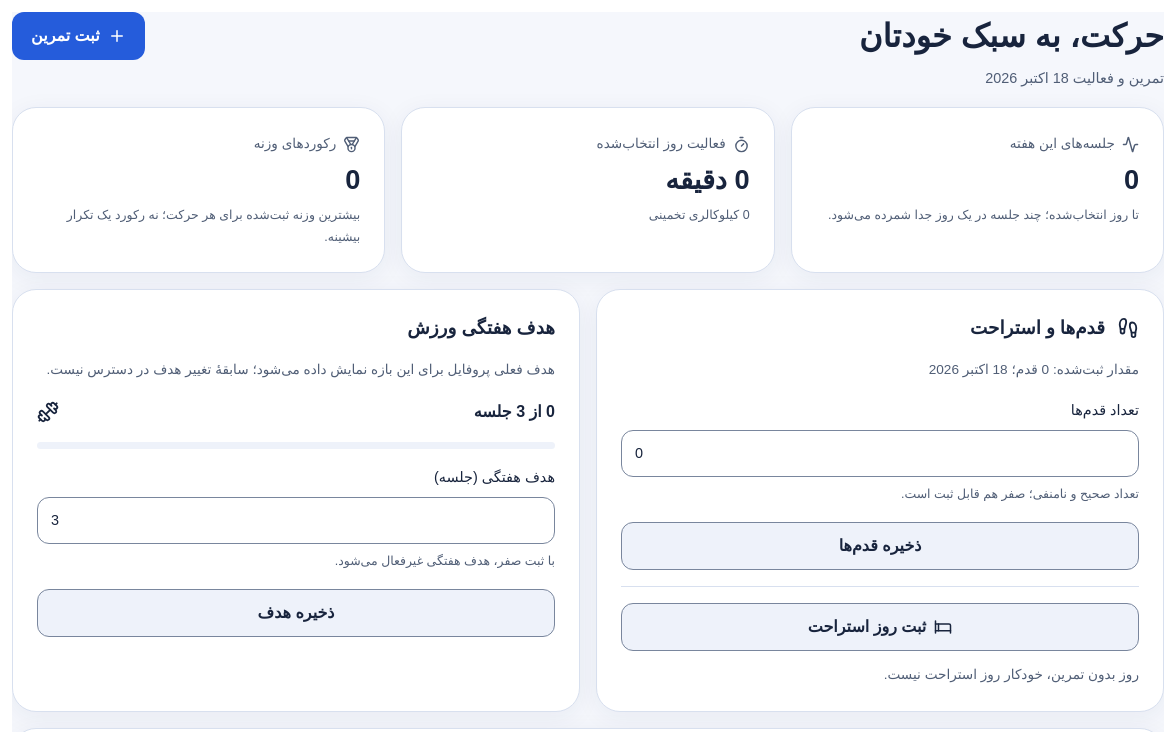
Scenario: steps, explicit rest and global current goal › does not report goal success when the profile disappeared before the write
The image size is (1176, 732).
Replace the text in the number field labelled "هدف هفتگی (جلسه)" with "5" at (296, 521), box [37,497,555,544]
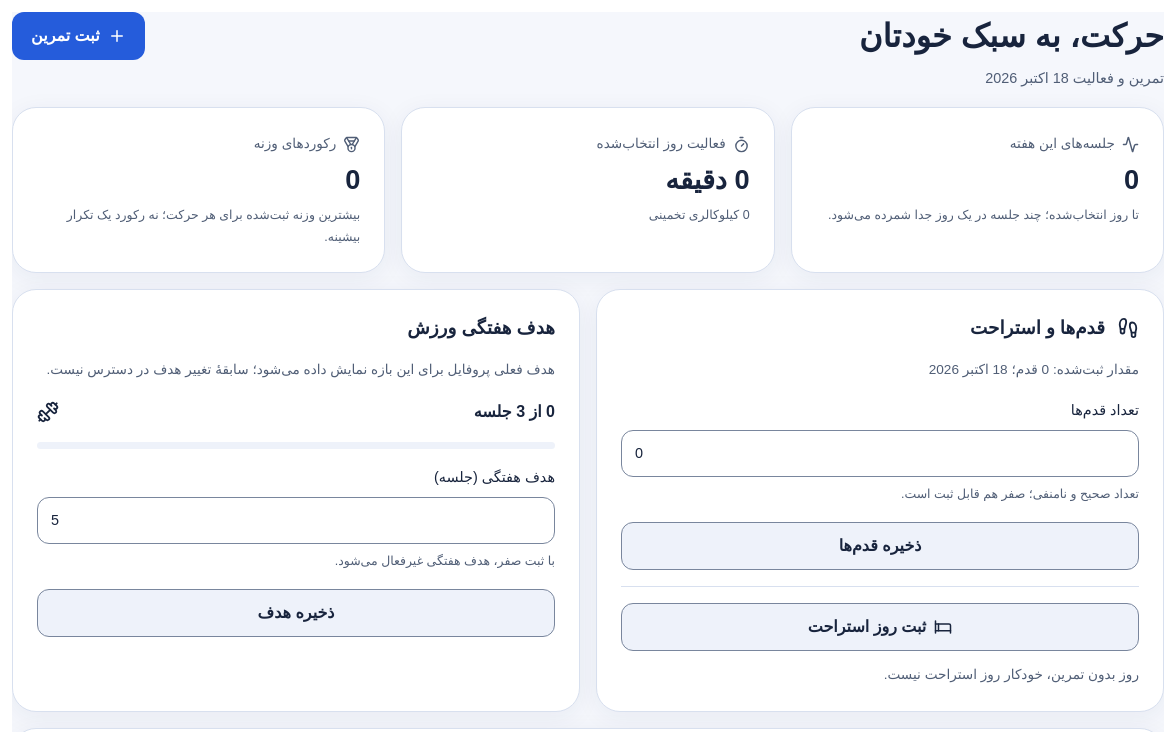
Click the button "ذخیره هدف" at (296, 613), box [37,589,555,637]
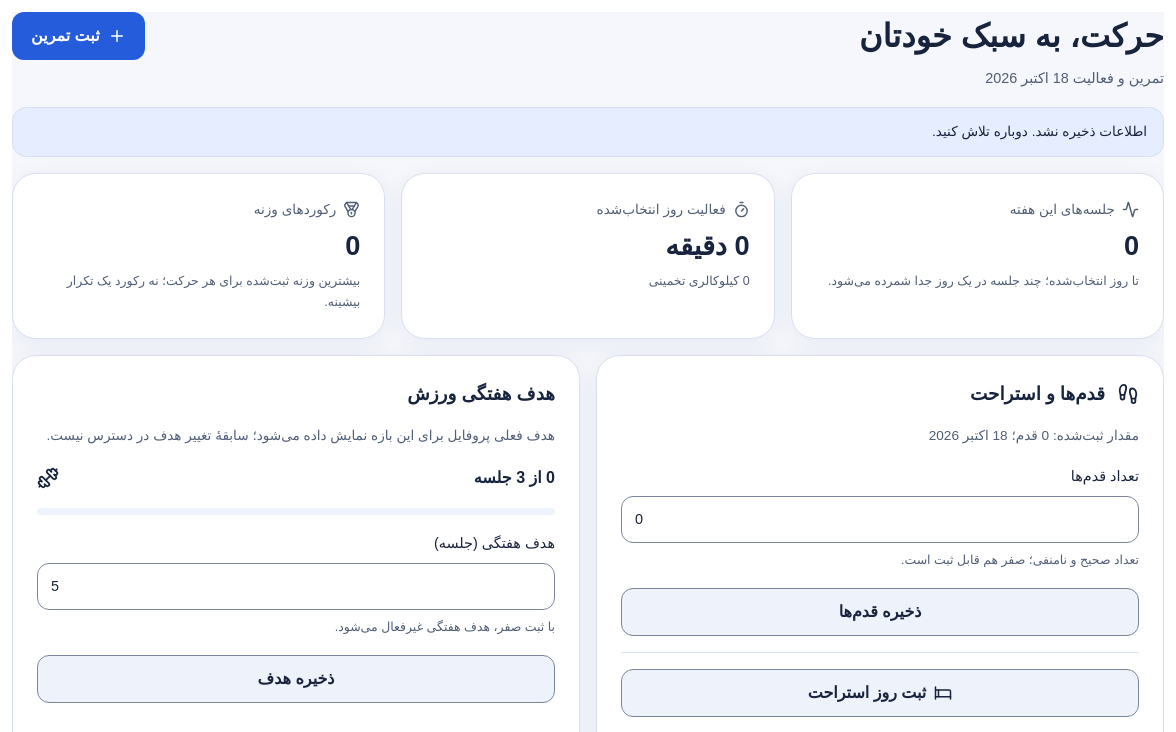
Now the message shows "ذخیره نشد", box [932,124,1147,139]
